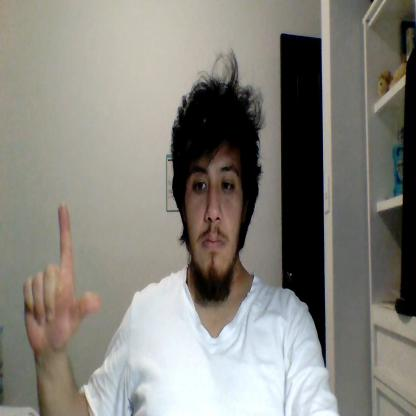L: (23, 203, 100, 348)
